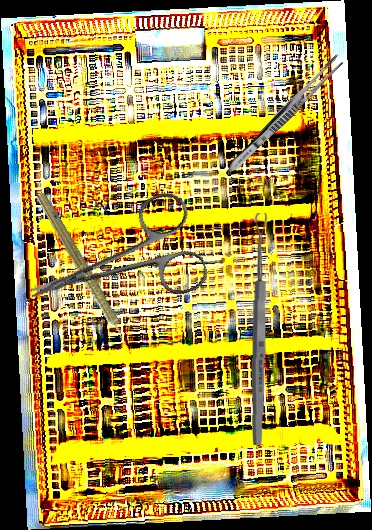Dressing Forceps: (223, 51, 346, 178)
Handpiece: (29, 190, 137, 355)
Iris Scissors: (14, 187, 212, 339)
Surgical Spoon: (249, 212, 270, 446)
